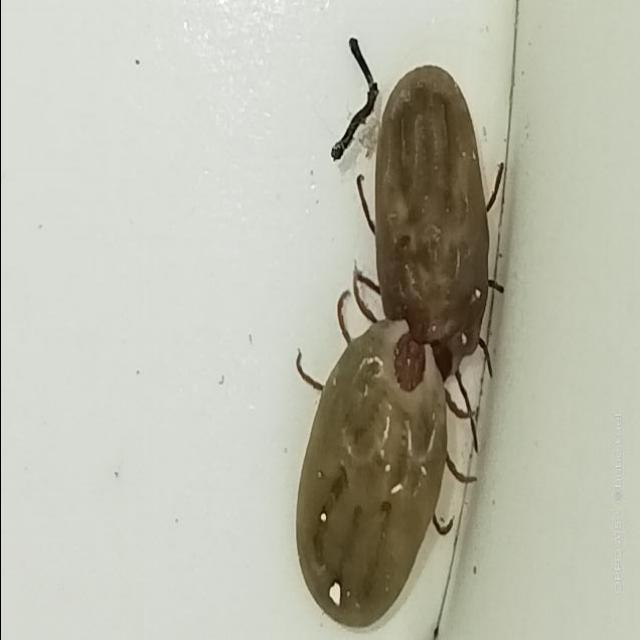Rhipicephalus Sanguineus-F-Fed: (295, 319, 449, 629)
